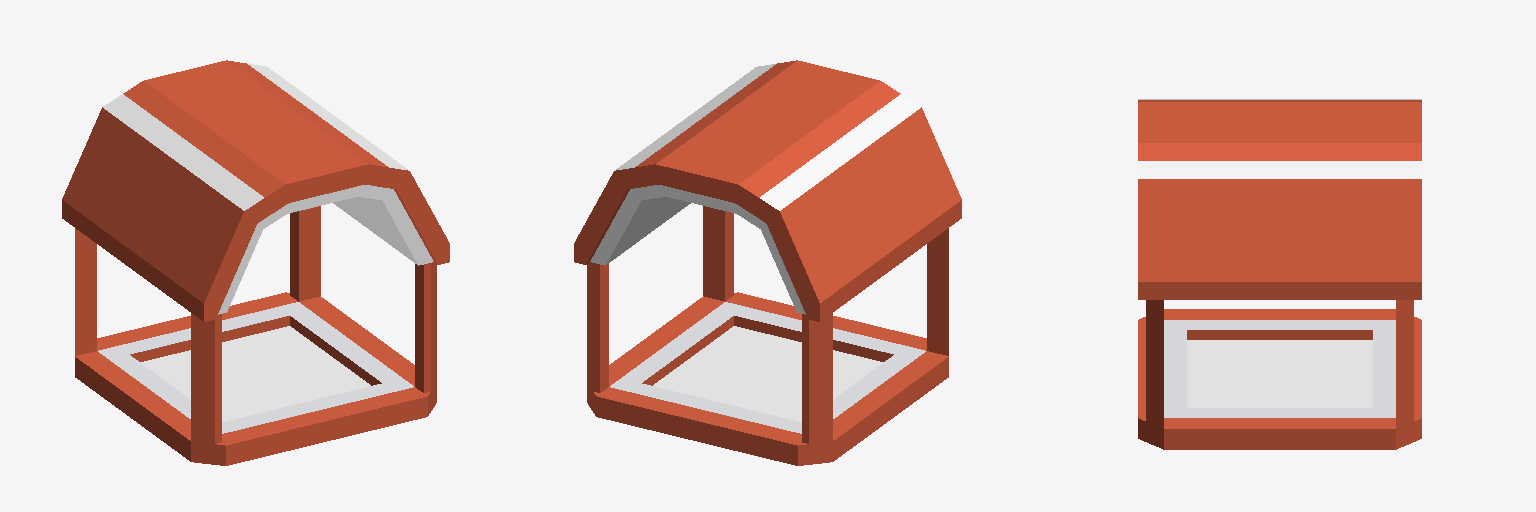
Rendered from buildingOpen.obj.
The picture shows the model from 3 angles: view 1: azimuth 30°, elevation 25°; view 2: azimuth 150°, elevation 25°; view 3: azimuth 270°, elevation 25°; orthographic projection.
Parts seen in each view (by area): view 1: buildingOpen; view 2: buildingOpen; view 3: buildingOpen.
Boxes of the visible parts, <box> form: buildingOpen: <box>62,60,449,465</box>; buildingOpen: <box>574,60,961,465</box>; buildingOpen: <box>1138,99,1421,449</box>.
Size of the model in its own units: 10 by 10.37 by 10.